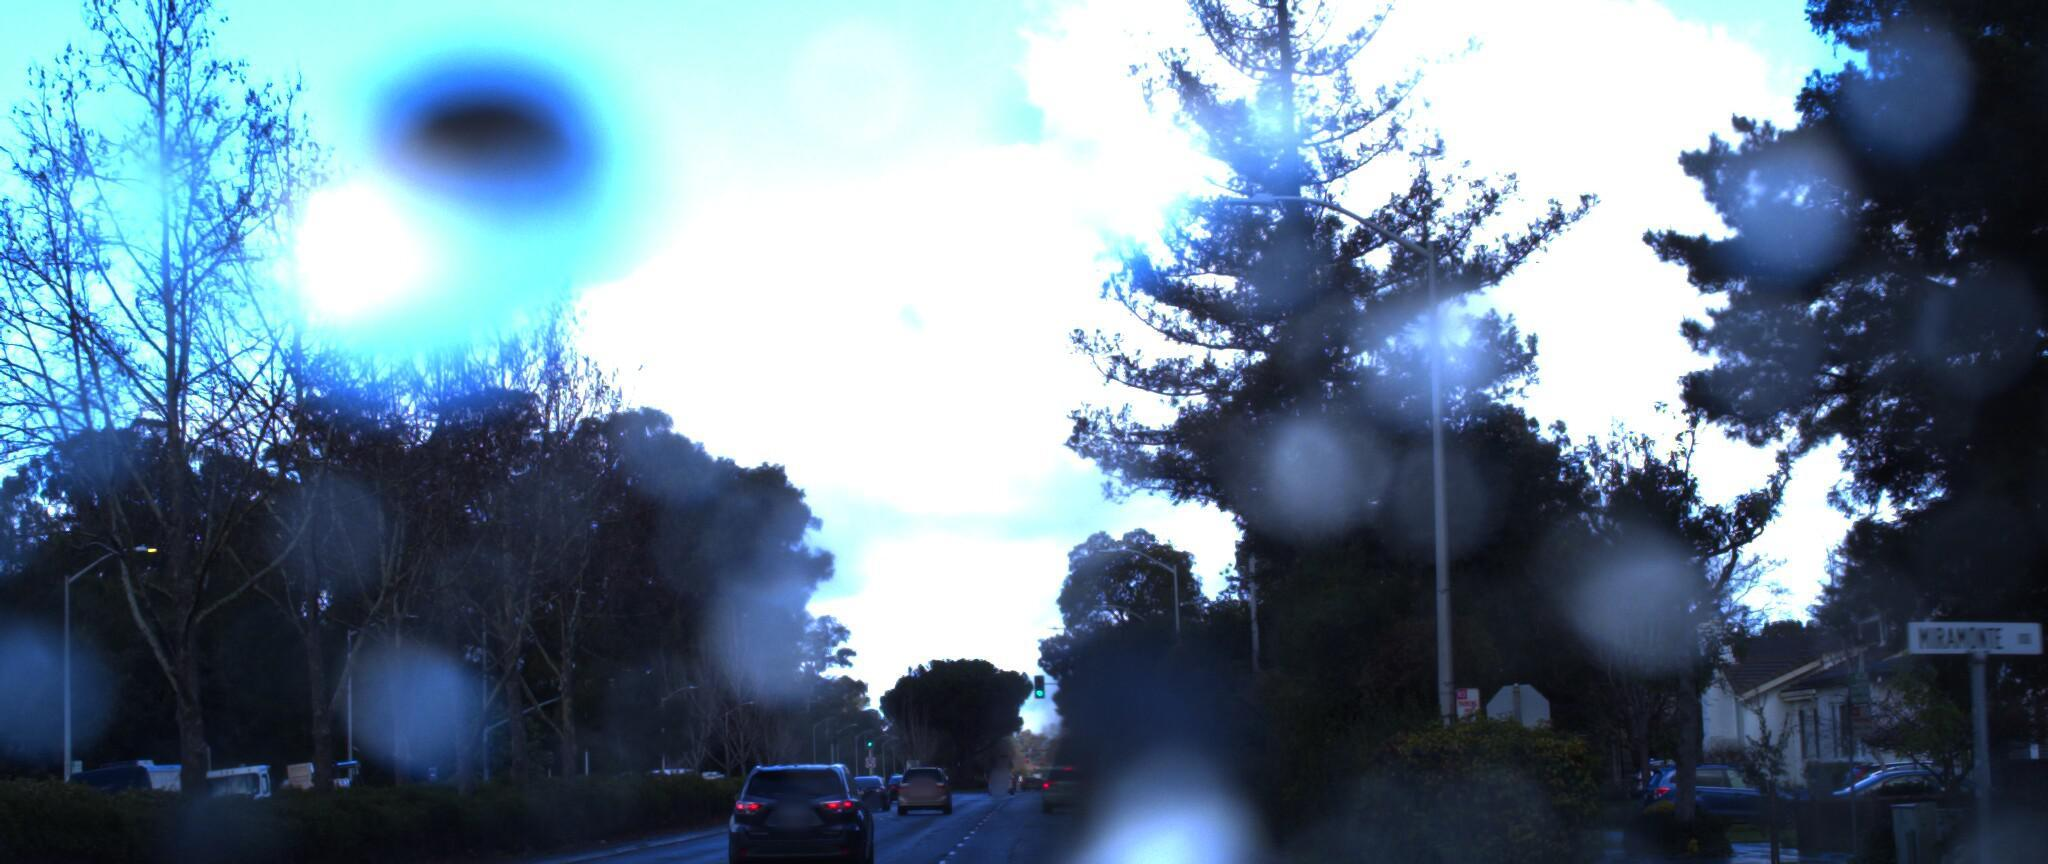car: (718, 739, 886, 864), (0, 649, 20, 864)
